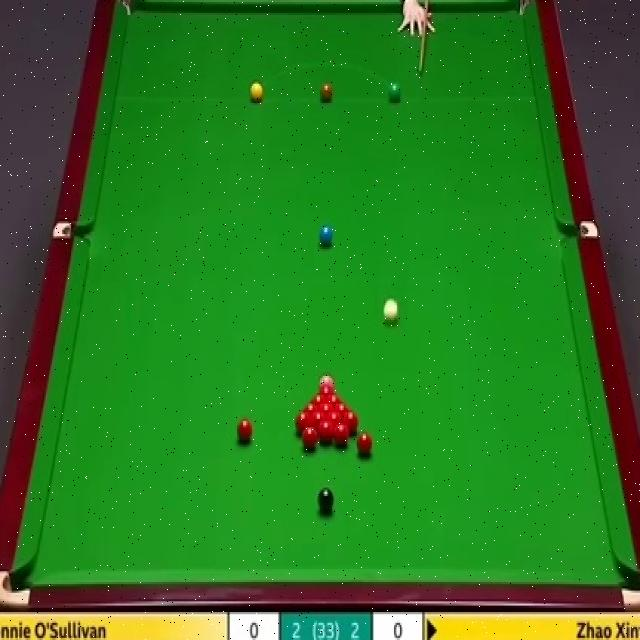black-ball: (317, 485, 334, 515)
blue-ball: (320, 226, 334, 250)
brown-ball: (321, 82, 334, 101)
green-ball: (388, 82, 401, 103)
pink-ball: (318, 370, 335, 389)
red-ball: (236, 419, 256, 446), (356, 429, 373, 459), (300, 427, 318, 453), (318, 420, 334, 446), (334, 425, 351, 448), (342, 411, 359, 433), (295, 411, 311, 434), (310, 410, 327, 428), (327, 413, 342, 431), (325, 395, 344, 406), (318, 404, 335, 415), (334, 404, 352, 414), (308, 395, 326, 405), (317, 385, 335, 395), (303, 404, 318, 415)
white-ball: (381, 297, 398, 323)
yellow-ball: (249, 81, 265, 103)
